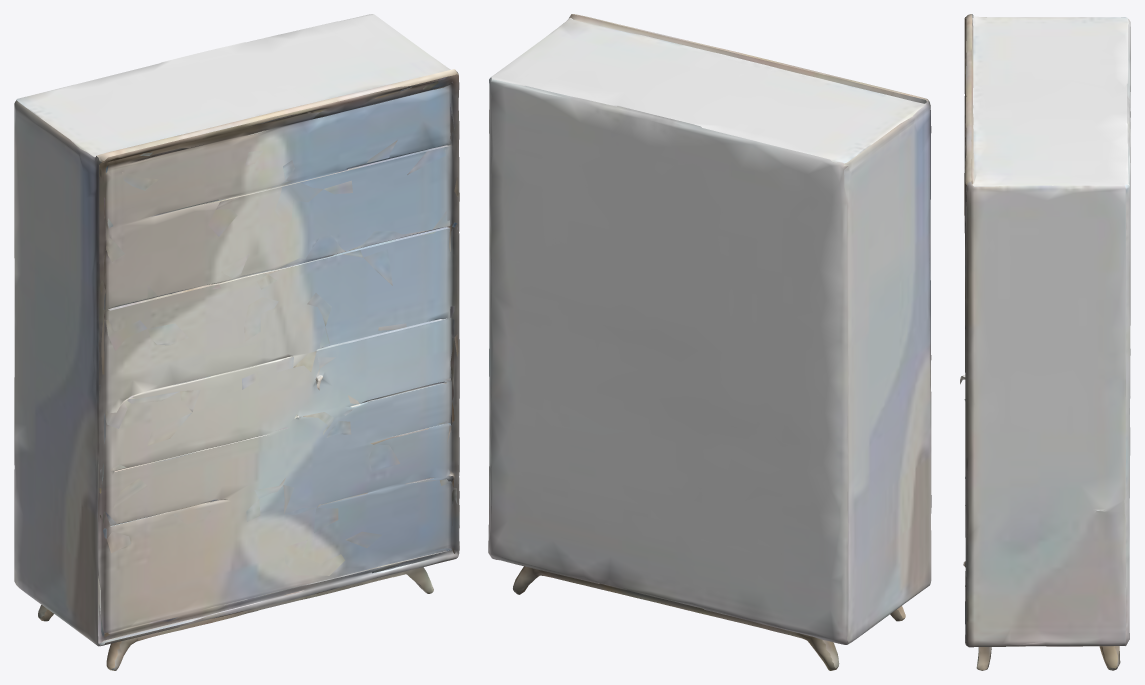
3 renders of one model, left to right at view 1: azimuth 30°, elevation 25°; view 2: azimuth 150°, elevation 25°; view 3: azimuth 270°, elevation 25°, orthographic. The views are drawn at different scales.
Visible parts, largest first — view 1: world; view 2: world; view 3: world.
Part boxes in pixels (left/top/right/bottom): world: left=14, top=14, right=459, bottom=670; world: left=488, top=14, right=931, bottom=670; world: left=960, top=14, right=1130, bottom=670.
Bounding box in the file's own units: 0.4144 × 0.5718 × 0.1767.
Materials: 1 (1 with a texture image).
